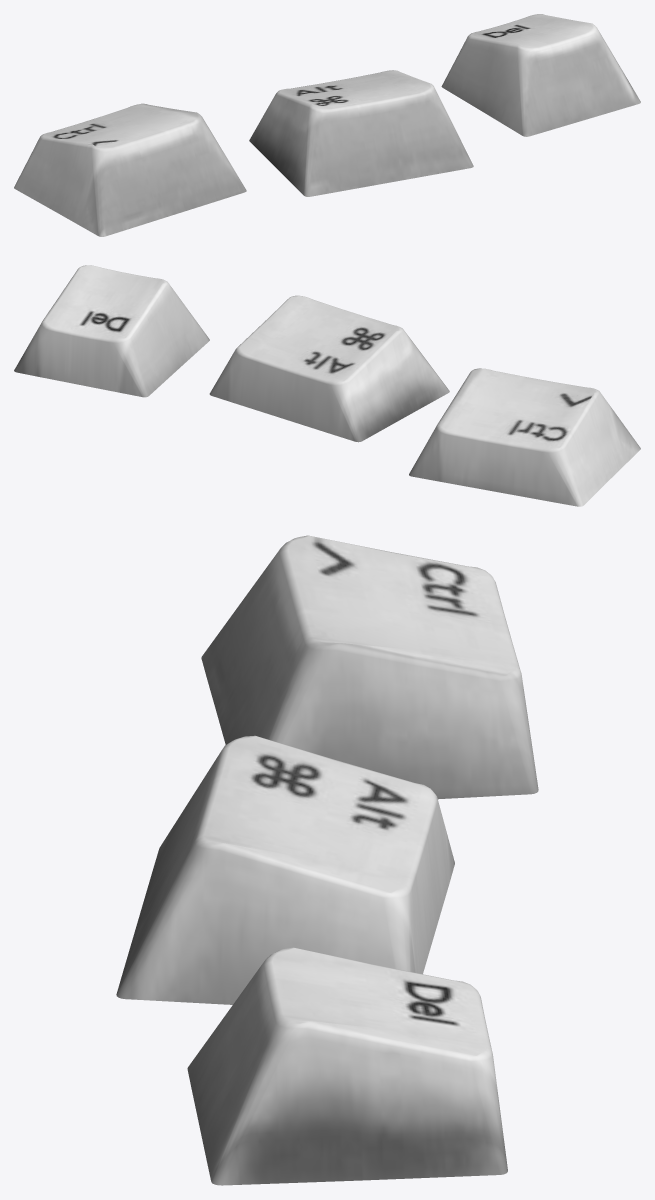
The model's file is keys_crtl_alt_del.glb.
3 views of the same model, one above another, from view 1: azimuth 30°, elevation 25°; view 2: azimuth 150°, elevation 25°; view 3: azimuth 270°, elevation 25° (orthographic). The views are drawn at different scales.
Visible parts, largest first — view 1: Plane.011; view 2: Plane.011; view 3: Plane.011.
Boxes of the visible parts, x1,y1,x2,y2 form: Plane.011: [14, 14, 640, 236]; Plane.011: [14, 265, 640, 506]; Plane.011: [116, 535, 538, 1185].
Bounding box in the file's own units: 15.04 × 1.76 × 4.92.
1 material, 1 textured.
